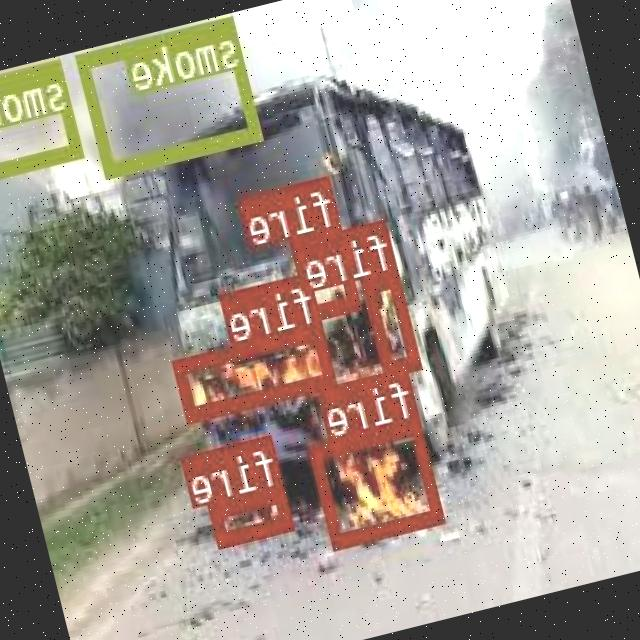fire: (310, 417, 444, 545), (174, 321, 338, 418), (362, 266, 422, 374), (292, 224, 362, 316), (210, 484, 295, 542)
smoke: (78, 15, 263, 175), (0, 55, 84, 175)
